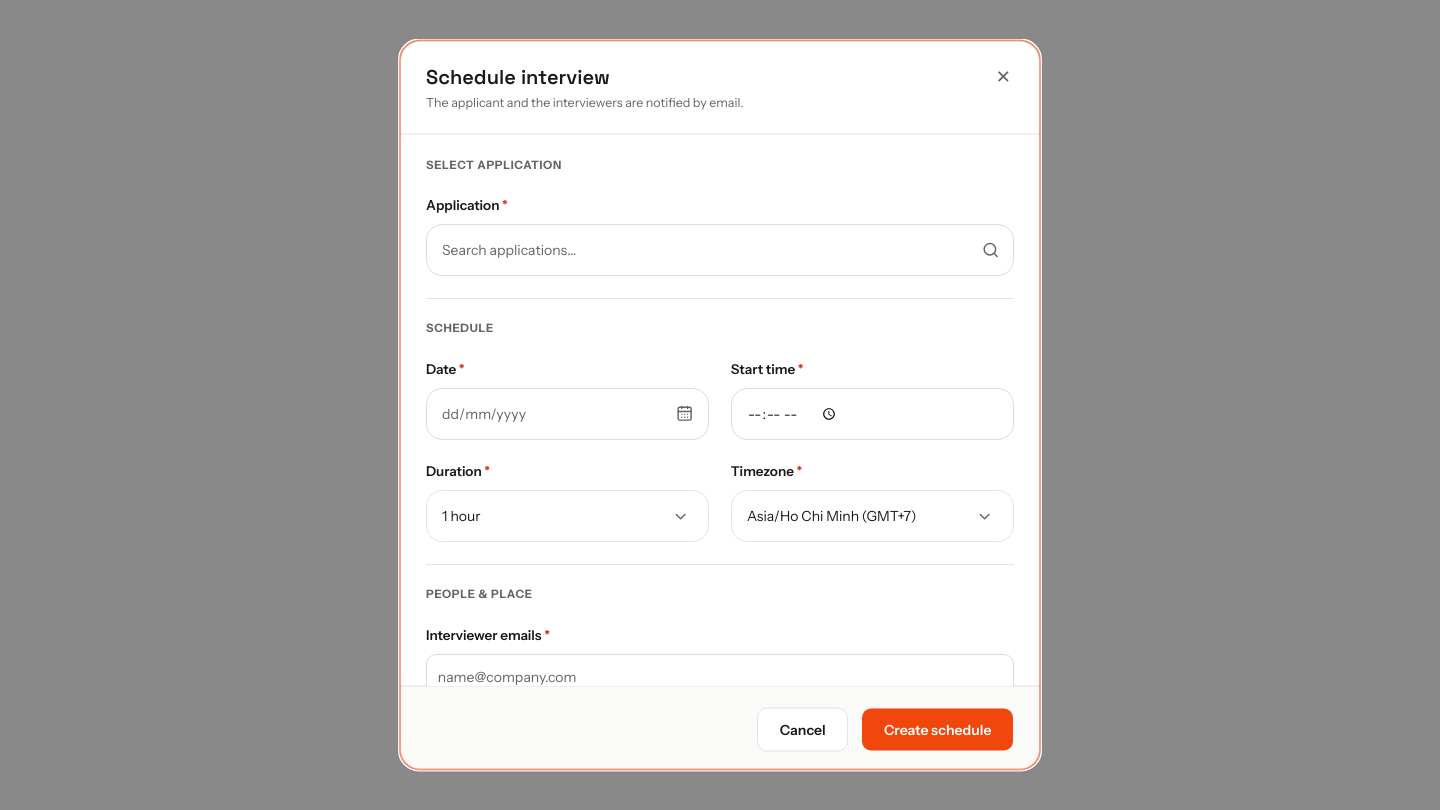
it: Schedule interview dialog › shows the applicant, the job and the stage once an application is chosen
Click the dropdown labelled "Application *" at (720, 250), box [426, 224, 1014, 276]
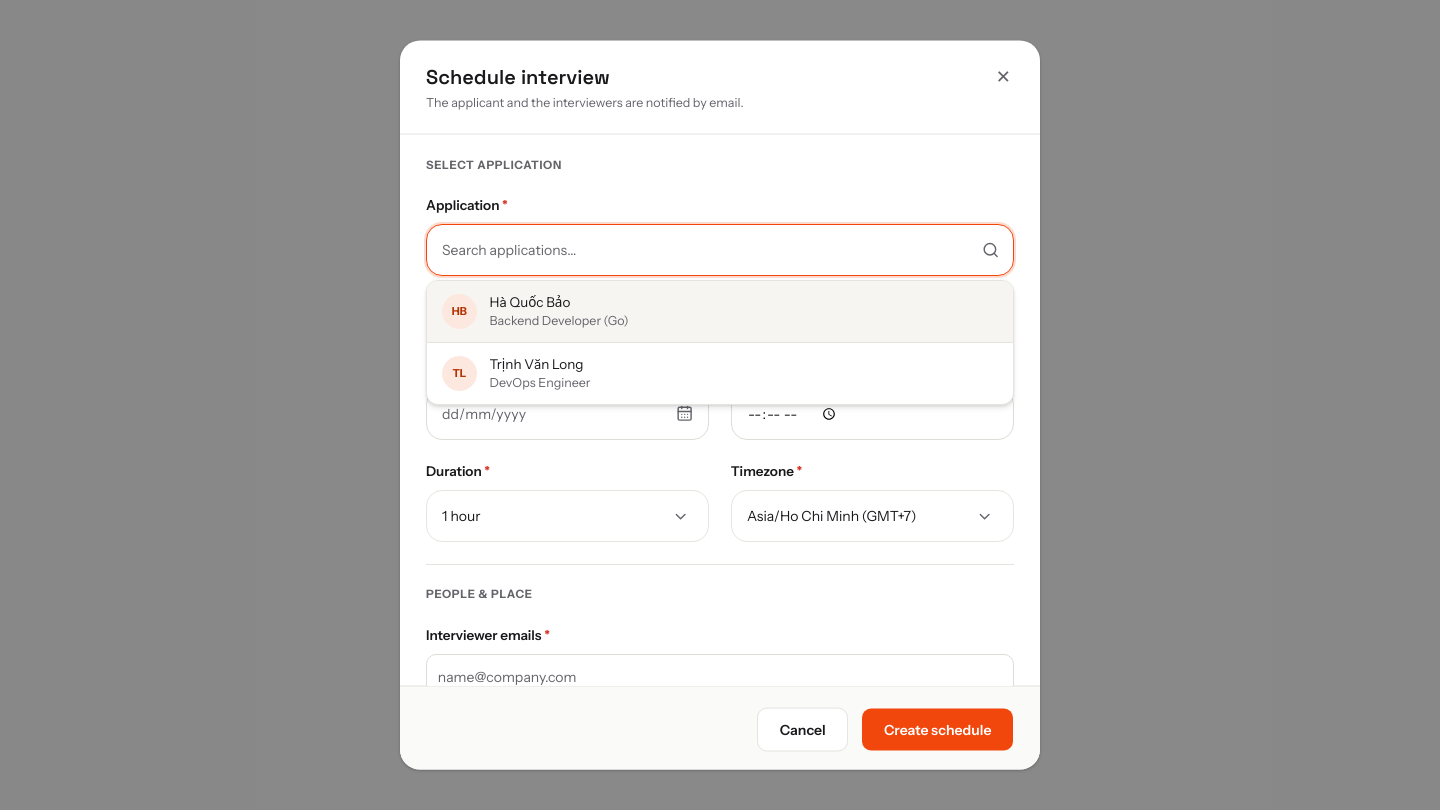
Click the option "HB Hà Quốc Bảo Backend Developer (Go)" at (459, 311), box [427, 281, 1013, 342]
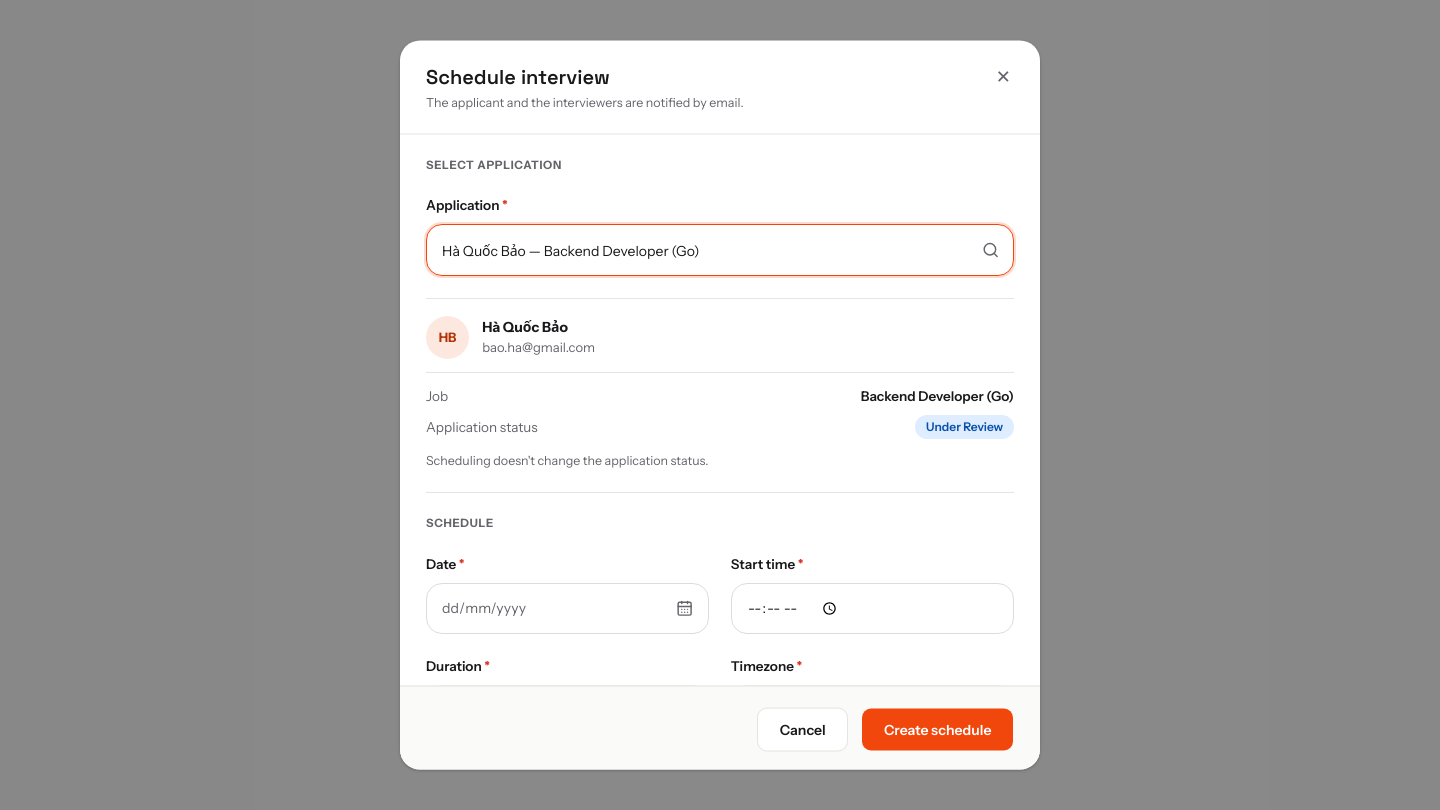
Expected: the text "bao.ha@gmail.com" is shown, [482, 338, 595, 357]
Expected: the text "Under Review" is shown, [915, 414, 1014, 438]
Expected: the text "Scheduling doesn't change the application status." is shown, [426, 452, 708, 467]
